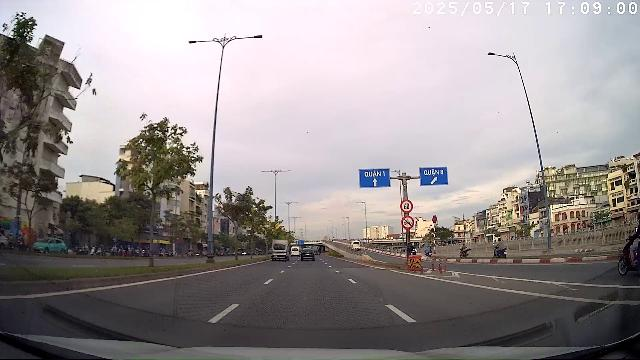127-toc-do-toi-da-60: (401, 199, 414, 213)
